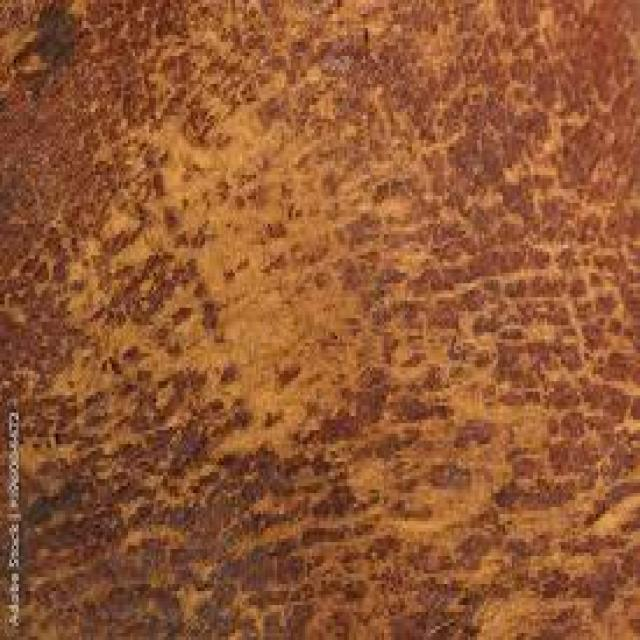Rotten surface: (113, 94, 437, 431), (321, 300, 628, 626)
